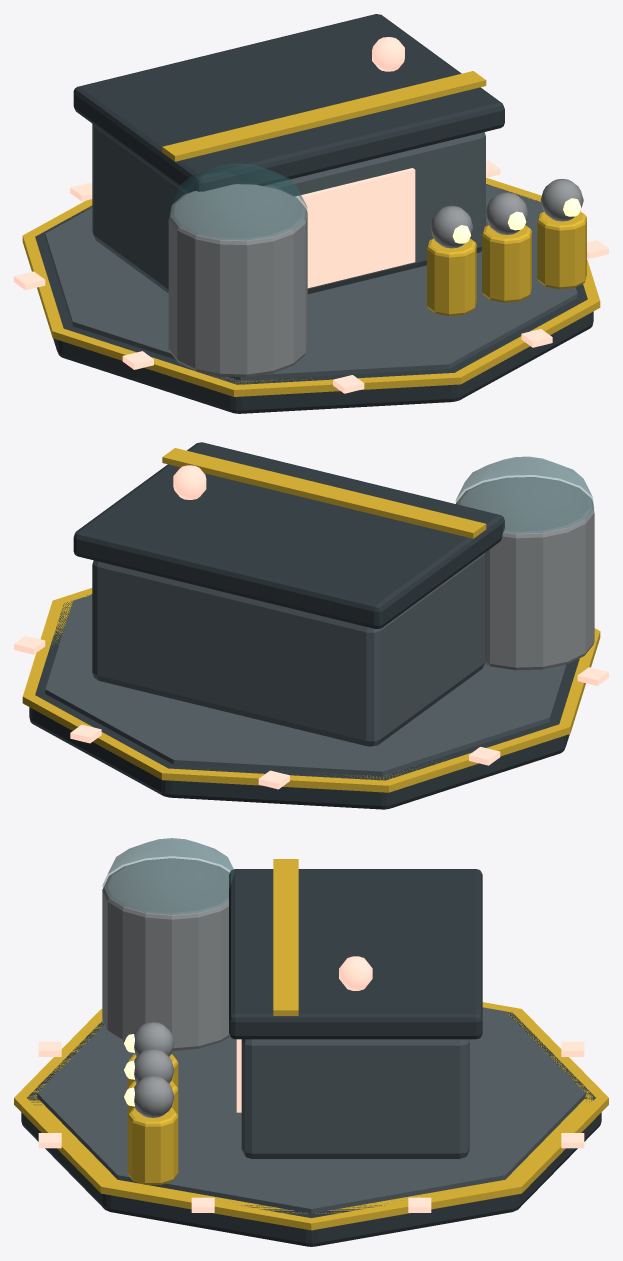
Rendered from armor_yard.fbx.
The picture shows the model from 3 angles, top to bottom: view 1: azimuth 30°, elevation 25°; view 2: azimuth 150°, elevation 25°; view 3: azimuth 270°, elevation 25°; orthographic projection.
Parts seen in each view (by area): view 1: armor_yard, ANIM_pulse_1__beacon; view 2: armor_yard, ANIM_pulse_1__beacon; view 3: armor_yard, ANIM_pulse_1__beacon.
Part boxes in pixels (x1,y1,x2,y2): armor_yard: (14,14,608,413); ANIM_pulse_1__beacon: (372,37,404,71); armor_yard: (14,442,608,809); ANIM_pulse_1__beacon: (173,465,206,499); armor_yard: (14,838,608,1246); ANIM_pulse_1__beacon: (339,956,372,990).
Size of the model in its own units: 4.69 by 1.89 by 4.69.
